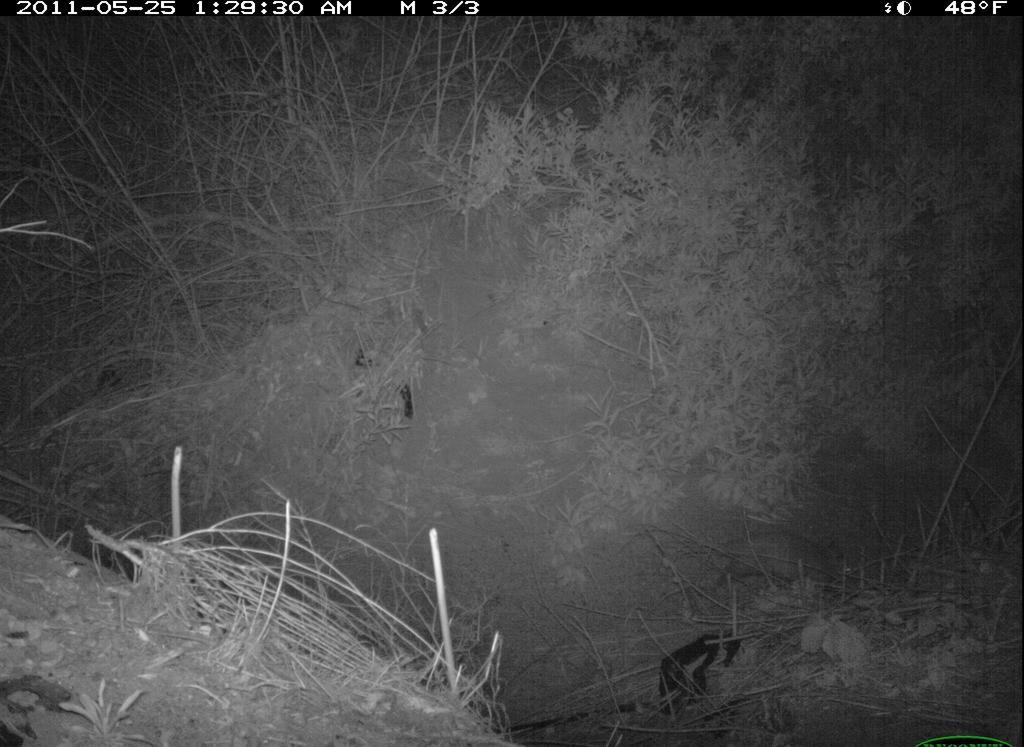opossum: (681, 530, 840, 598)
